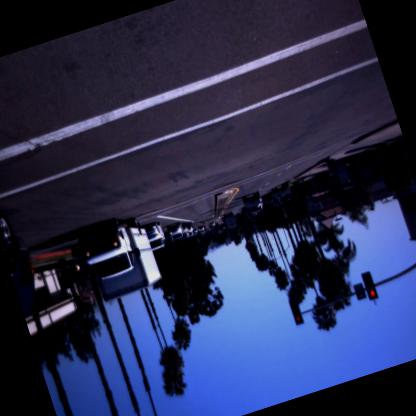trafficlight: (281, 286, 309, 332), (359, 263, 384, 305)
